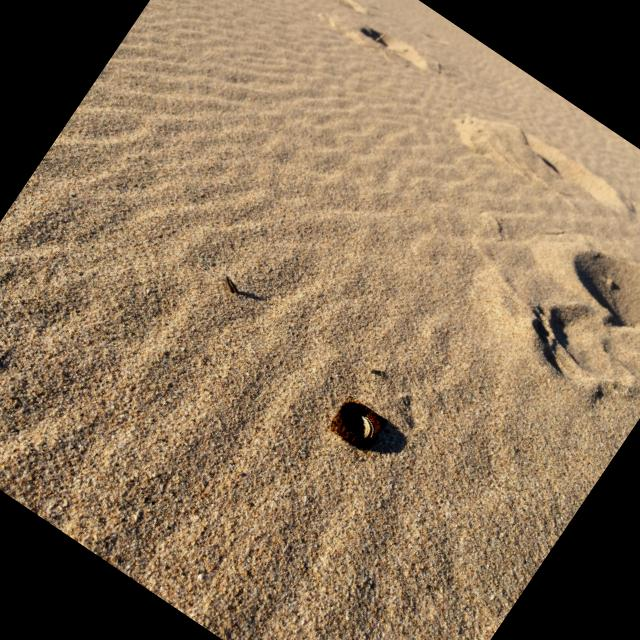Bottle cap: (335, 402, 380, 447)
